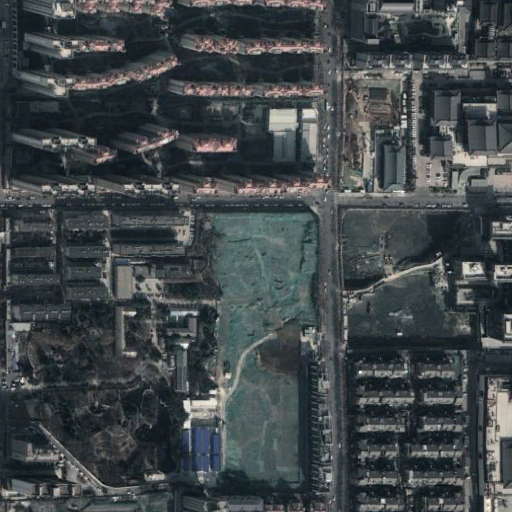cw: (197, 206, 321, 501), (342, 210, 484, 355)
